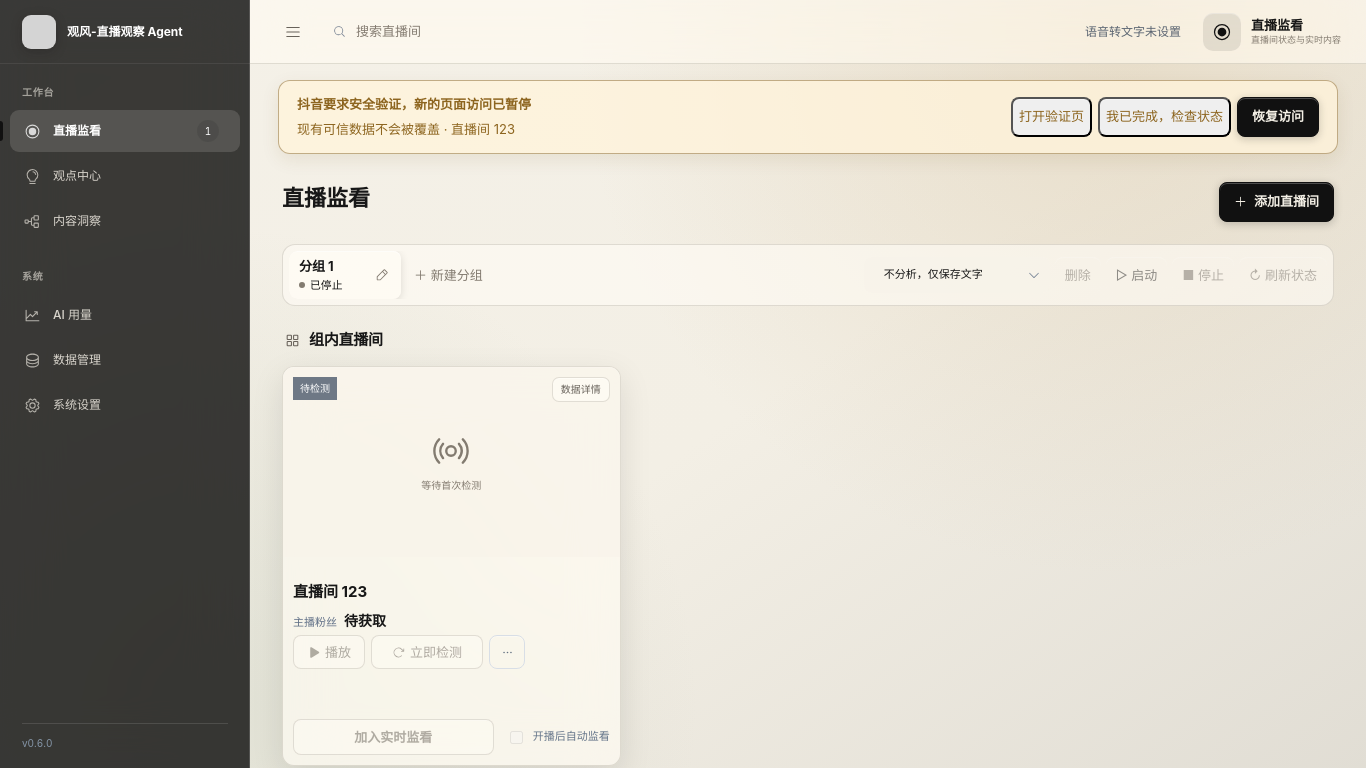
it: room form › replaces the stale recovery instruction after access is restored
The width and height of the screenshot is (1366, 768).
Click the button "恢复访问" at (1278, 117), box [1237,97,1319,137]
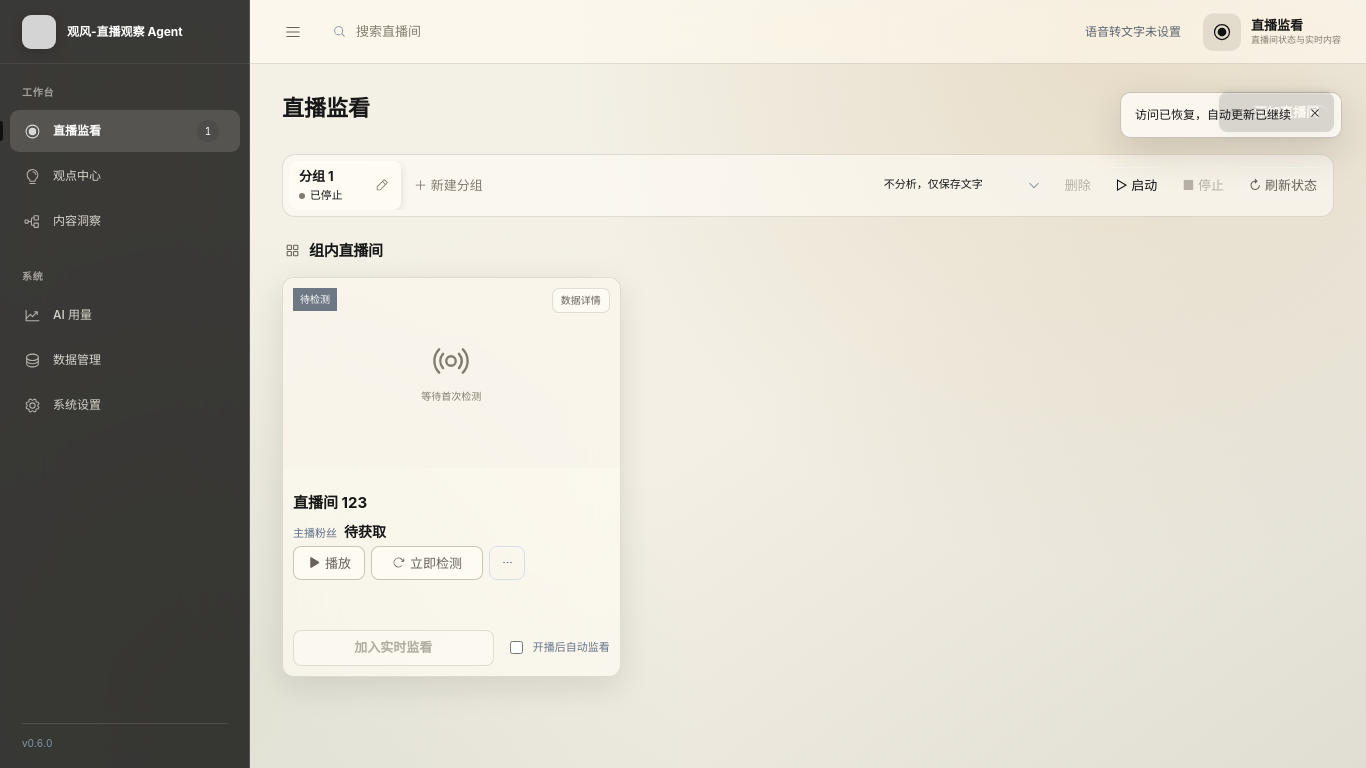
Expected: the text "访问已恢复，自动更新已继续" is shown, [1120,92,1342,138]
